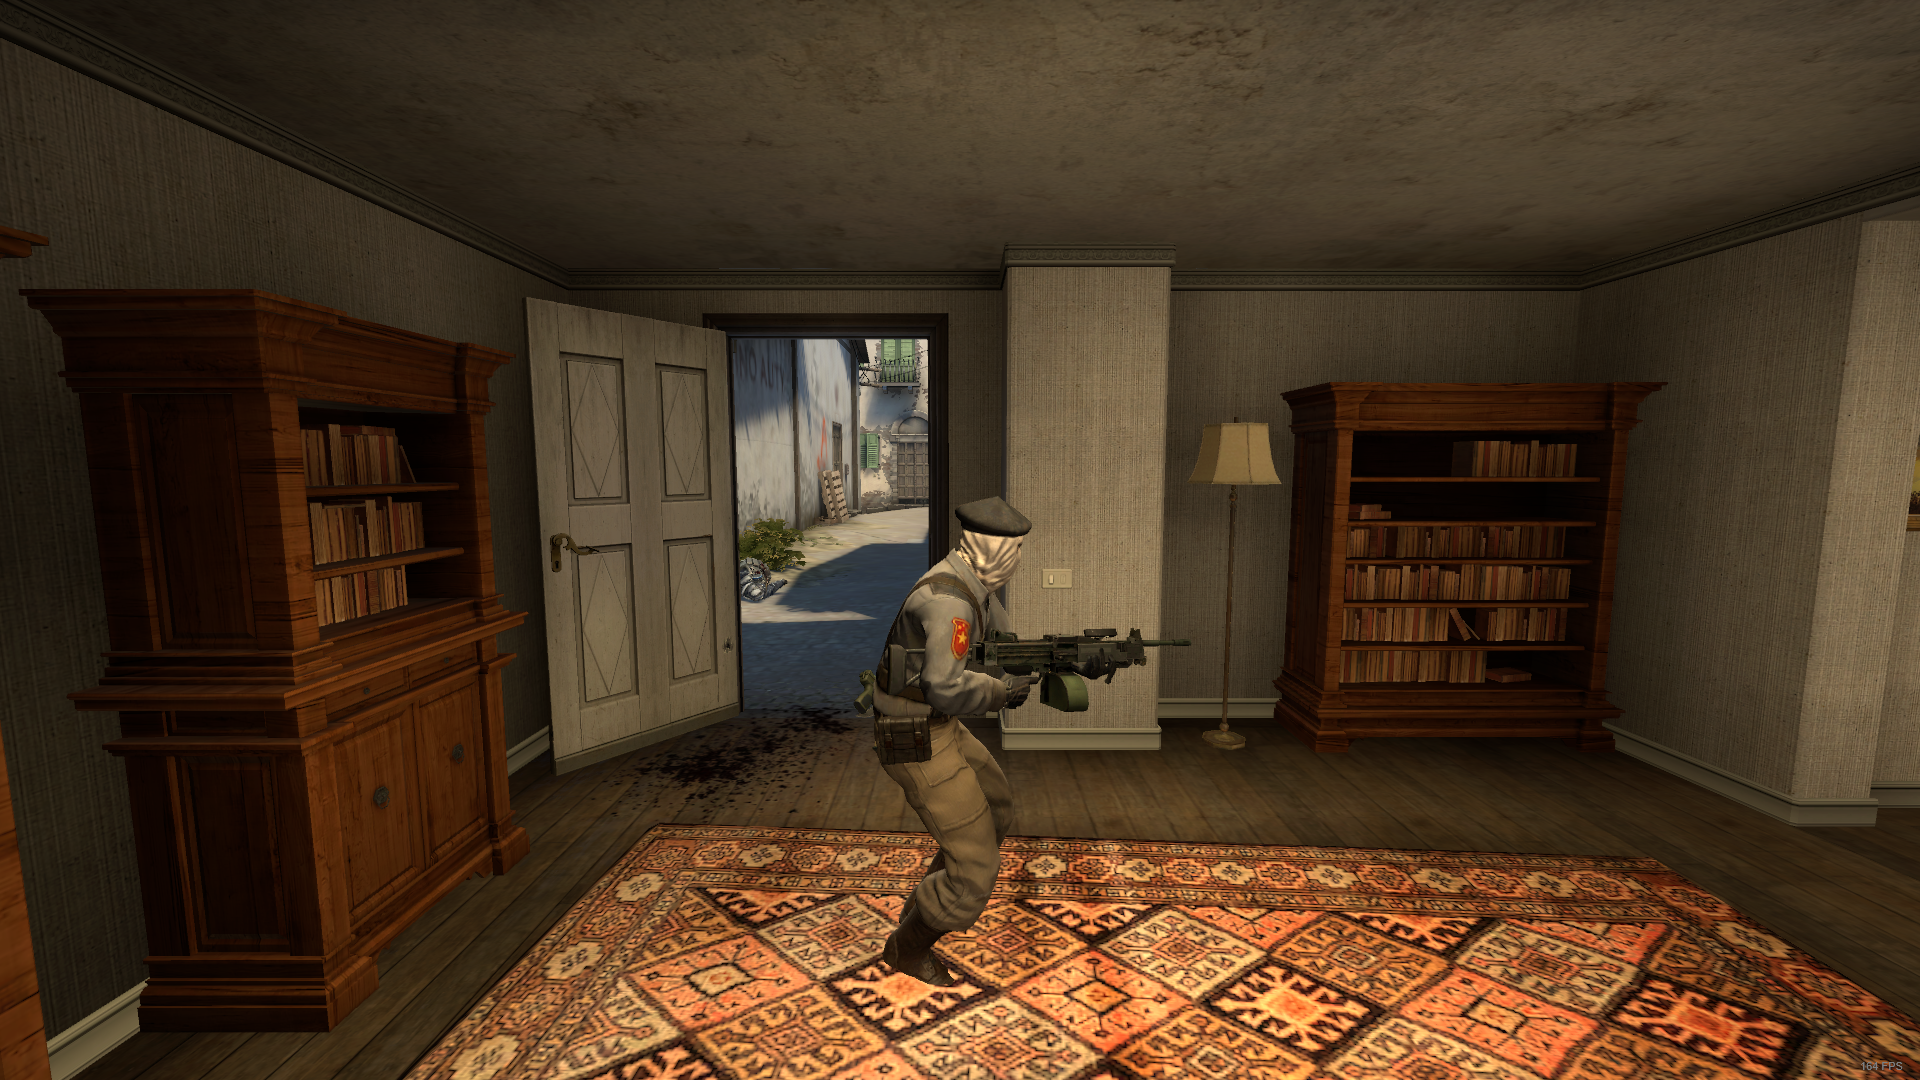t: (865, 492, 1064, 992)
